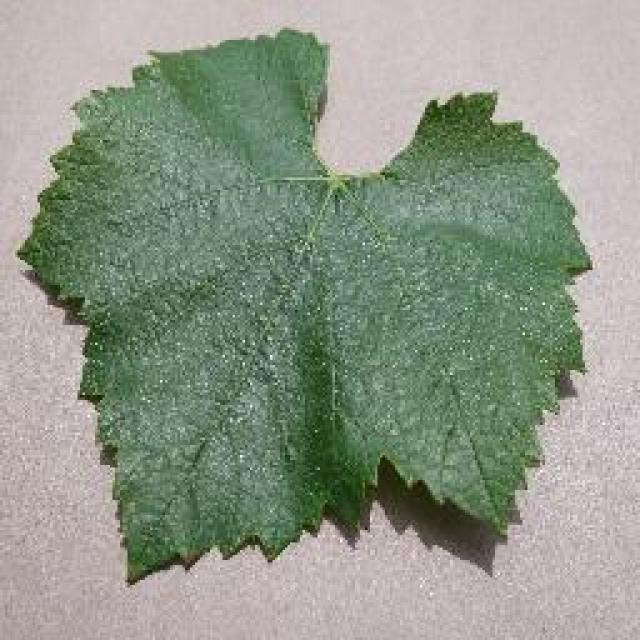Grape___healthy: (20, 30, 588, 578)
